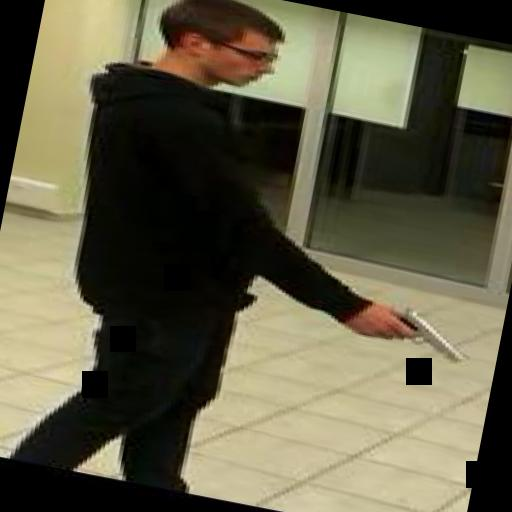Handgun: (354, 295, 474, 363)
